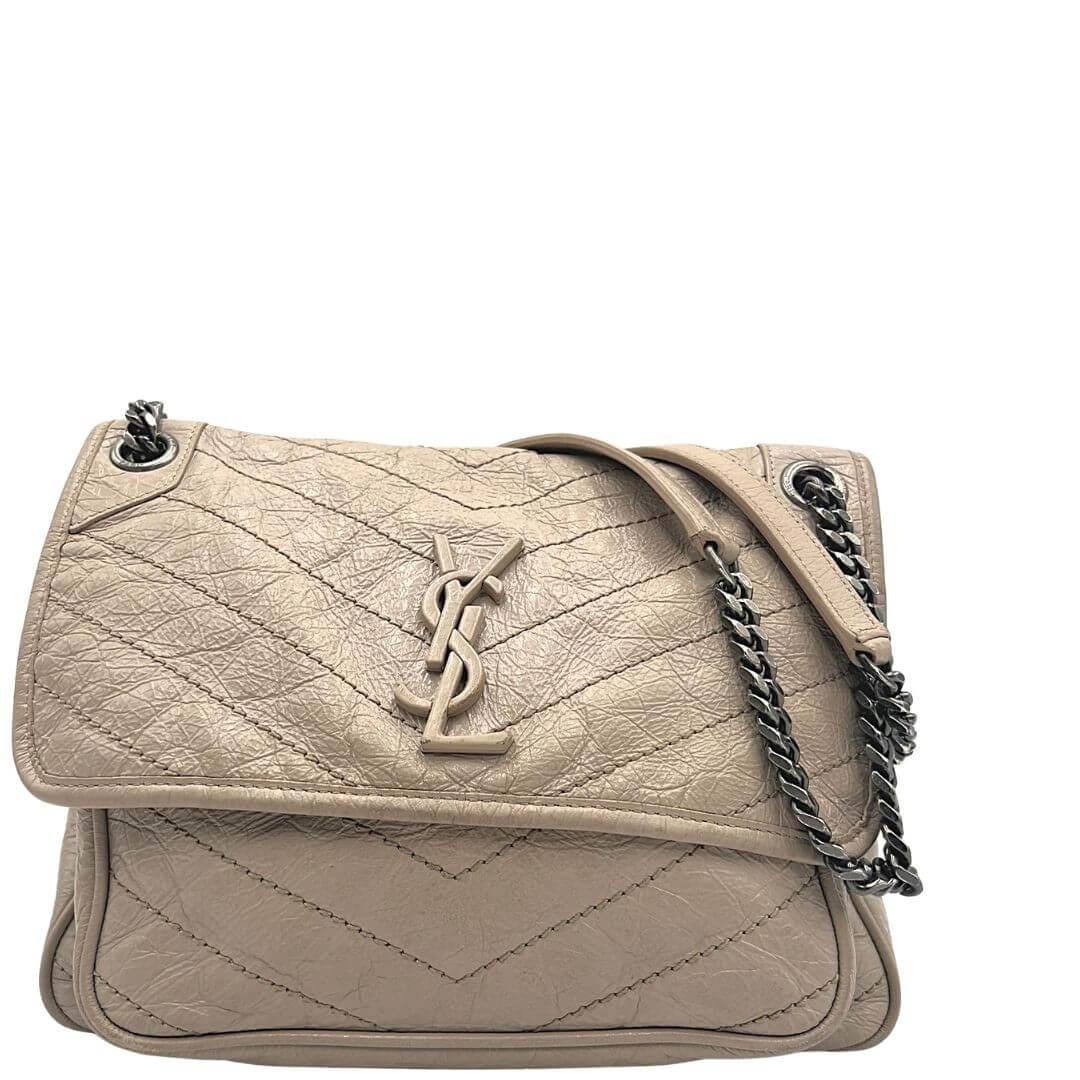YVES-SAINT-LAURENT: (393, 532, 526, 753)
